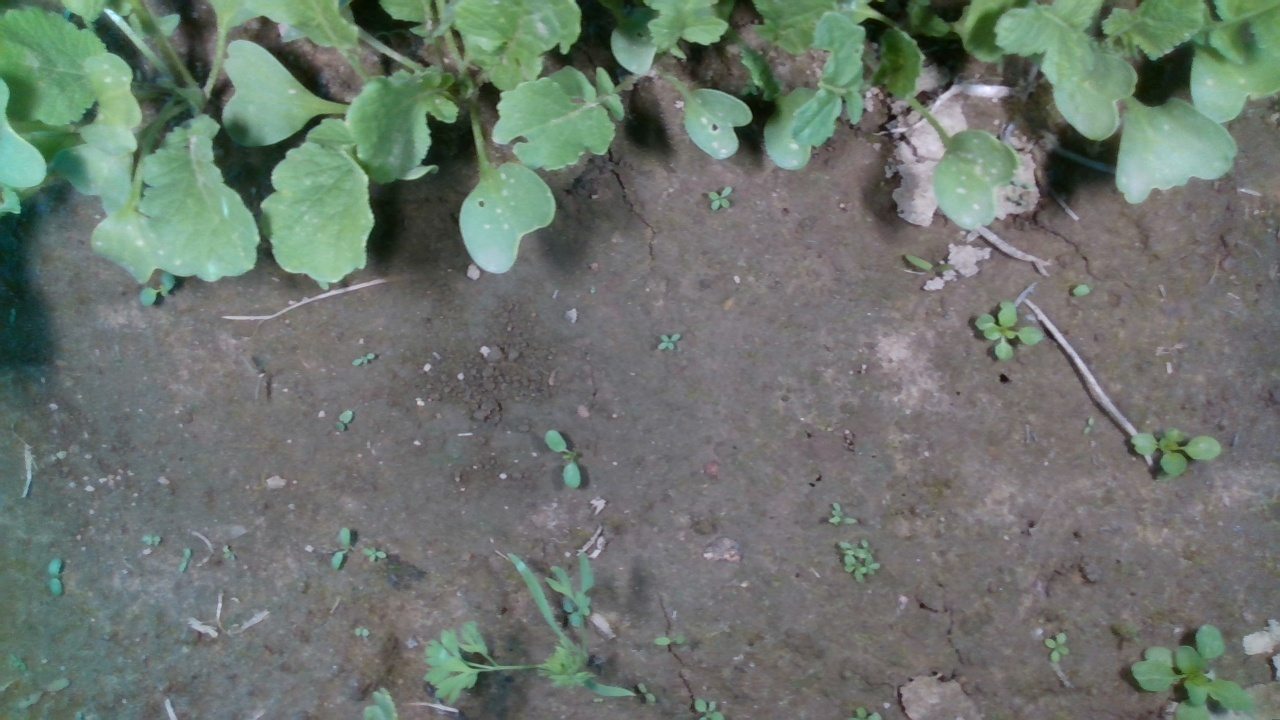weed: (542, 429, 582, 489), (331, 523, 352, 570), (1041, 633, 1070, 664), (46, 556, 66, 599), (707, 184, 736, 212), (332, 408, 355, 435), (655, 332, 682, 353), (637, 680, 657, 705), (360, 546, 389, 563), (175, 547, 192, 575), (651, 634, 684, 647), (352, 352, 378, 367)
